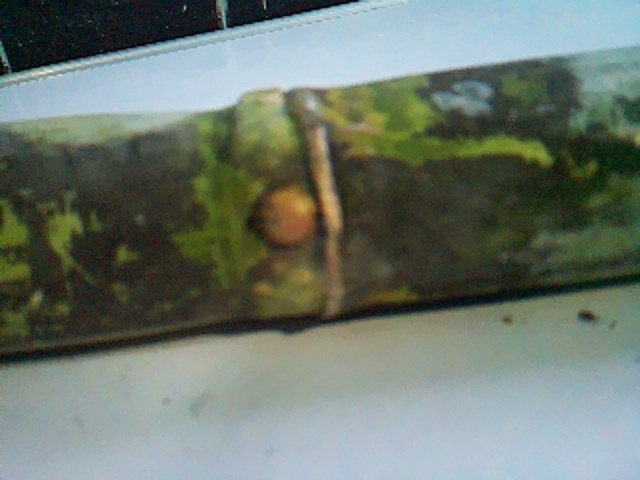Good Sugarcane: (0, 48, 640, 366)
Node: (200, 78, 385, 330)
